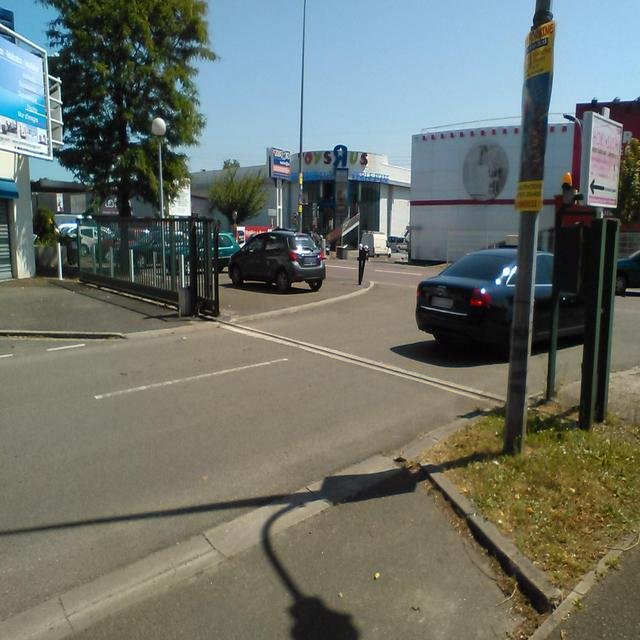Billboard: (0, 36, 63, 211), (572, 100, 639, 207), (266, 144, 389, 183), (236, 209, 275, 247)
Car: (360, 230, 517, 351), (227, 228, 331, 293), (532, 247, 586, 346), (615, 249, 639, 295)
Trash Can: (337, 248, 348, 259)
Vegetation: (33, 0, 269, 232), (32, 206, 70, 266)
